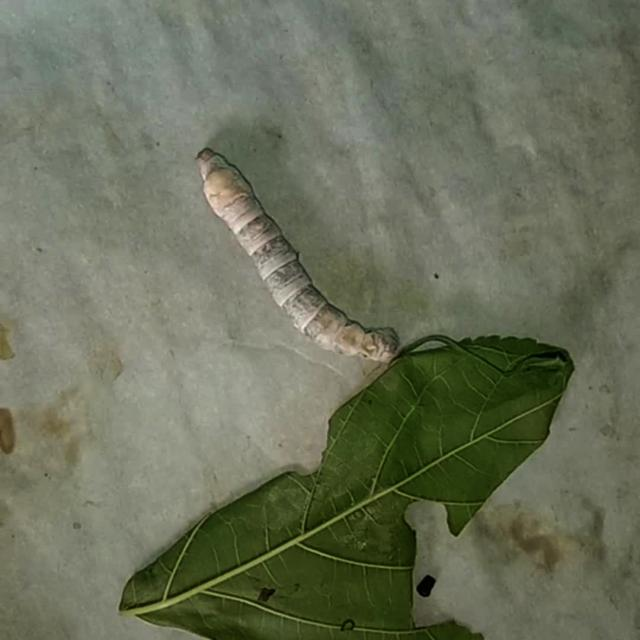Grasserie: (178, 129, 425, 393)
